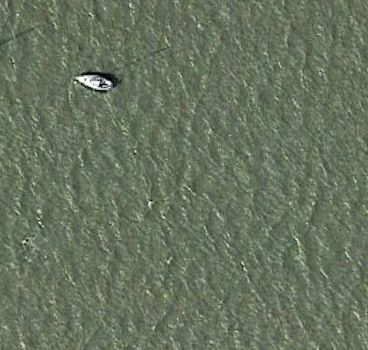boat: (72, 72, 116, 94)
